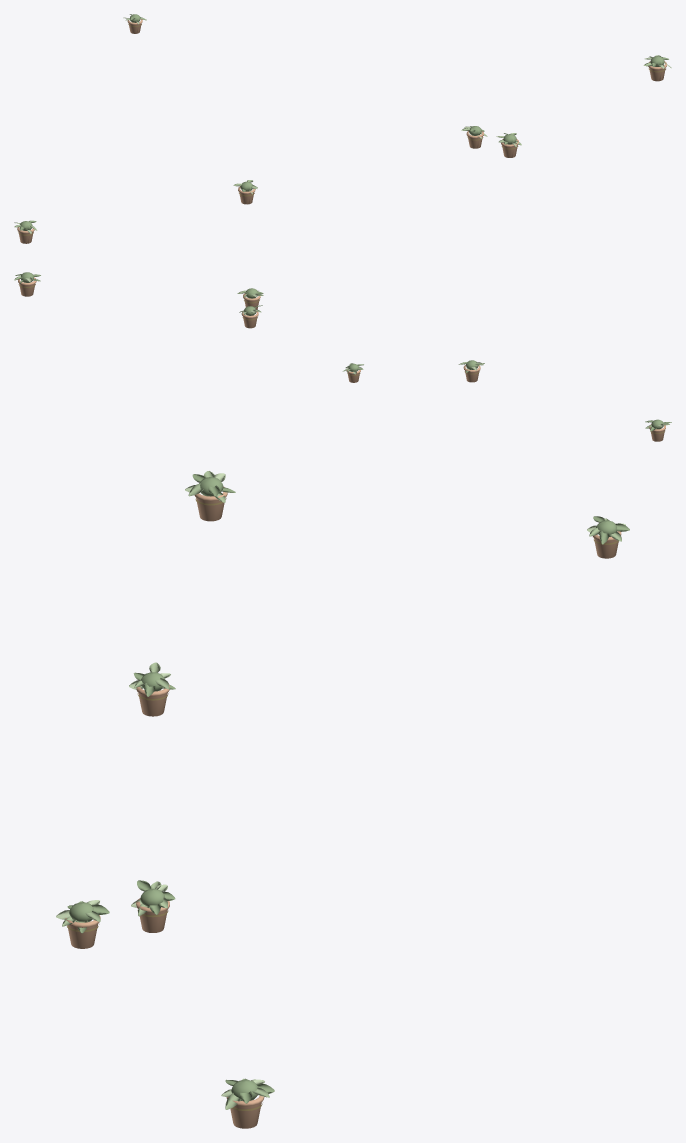
File: potted_plants.glb
The picture shows the model from 3 angles, top to bottom: view 1: azimuth 30°, elevation 25°; view 2: azimuth 150°, elevation 25°; view 3: azimuth 270°, elevation 25°; orthographic projection. The views are drawn at different scales.
Parts seen in each view (by area): view 1: Potted_Plants_Set; view 2: Potted_Plants_Set; view 3: Potted_Plants_Set.
Part boxes in pixels (box(x1,y1,x2,y2)): Potted_Plants_Set: box(14, 14, 671, 243); Potted_Plants_Set: box(14, 272, 671, 441); Potted_Plants_Set: box(56, 471, 629, 1128).
Size of the model in its own units: 12.91 by 1.87 by 4.97.
